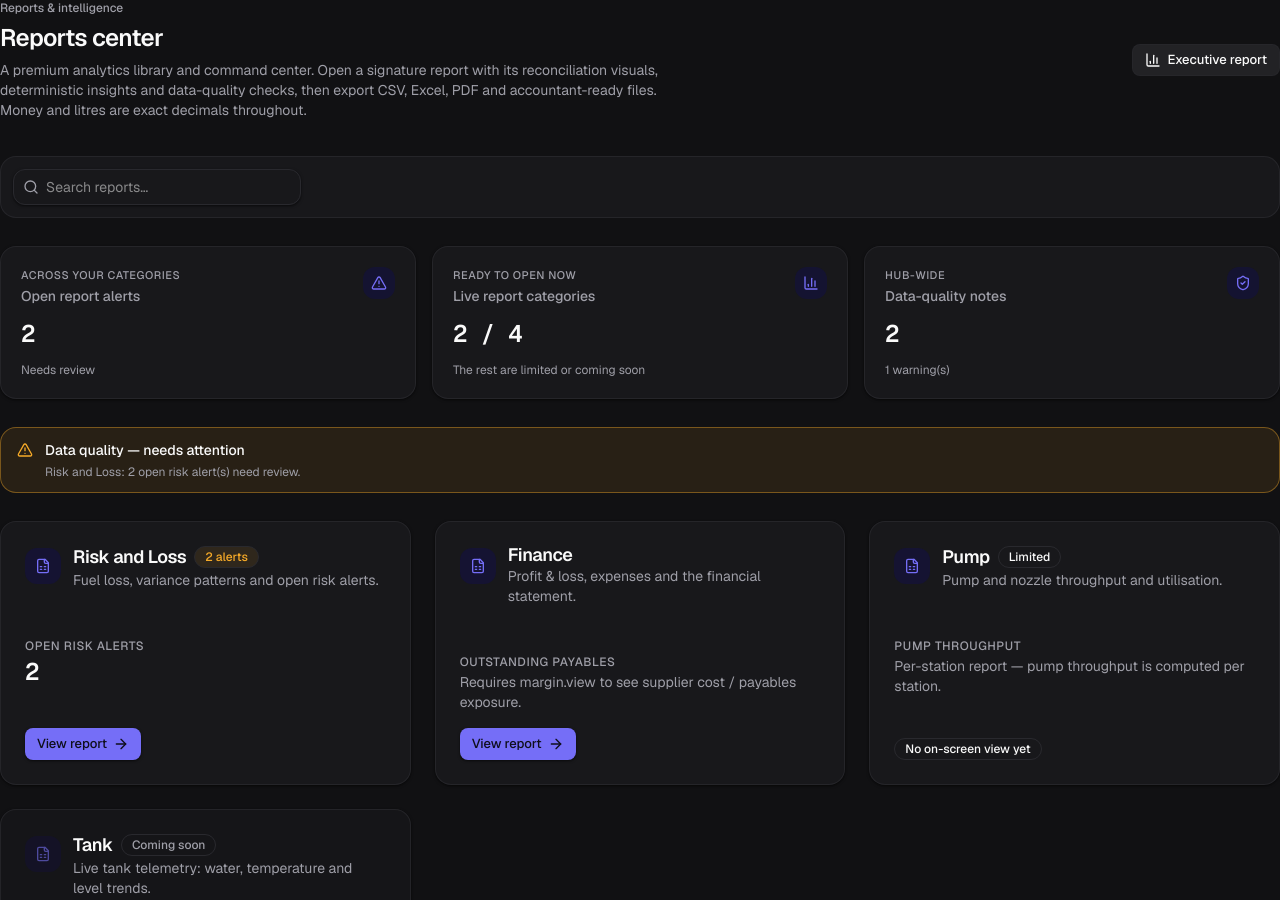
Test: Reports home › filters the cards via the search box
Check: the link "Risk and Loss" is shown, box [73,544,186,568]
Type "pump" into the search field labelled "Search reports" at [157, 187], box [13,169,301,205]
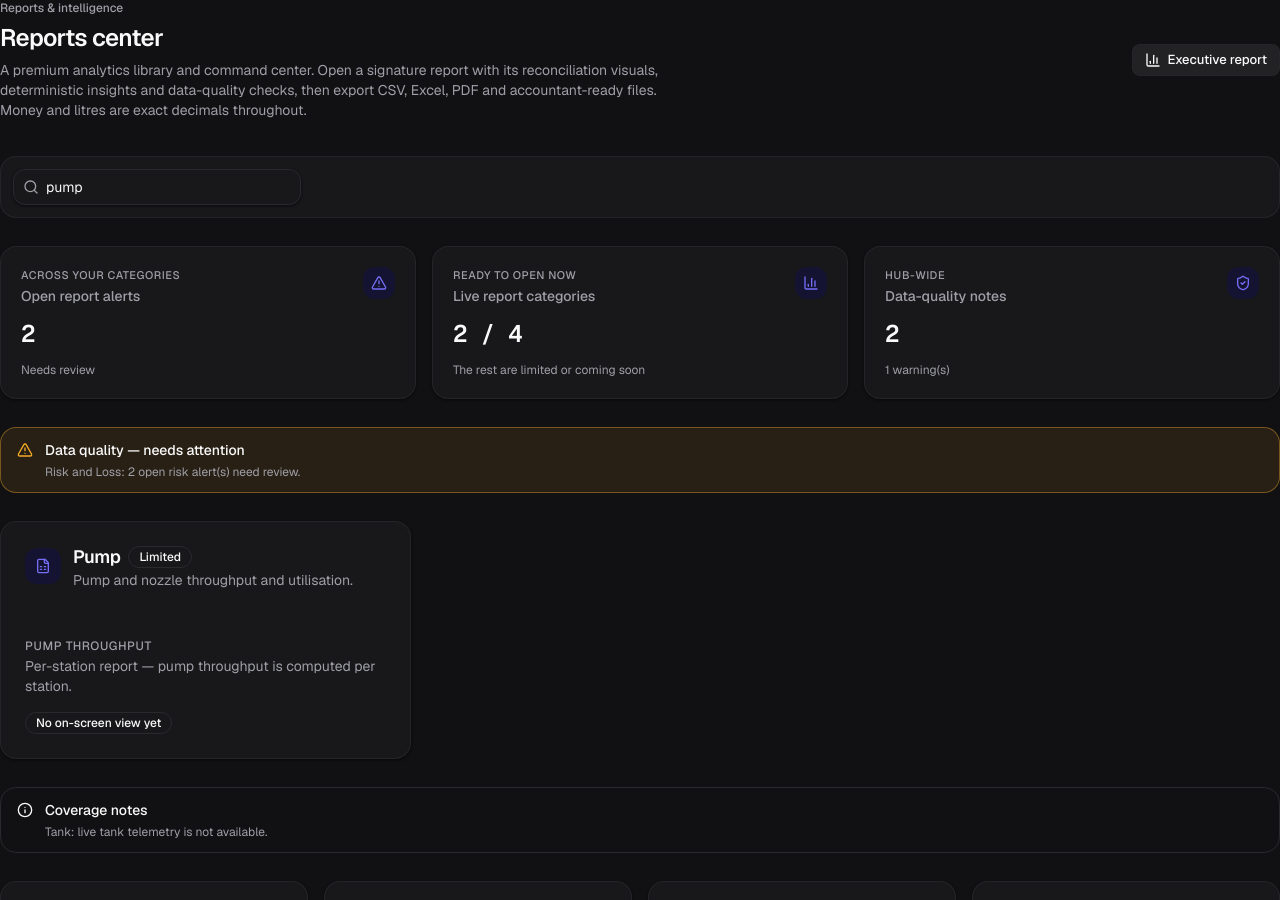
Check: the heading "Pump" is shown, box [73,548,120,566]
Check: the link "Finance" is gone
